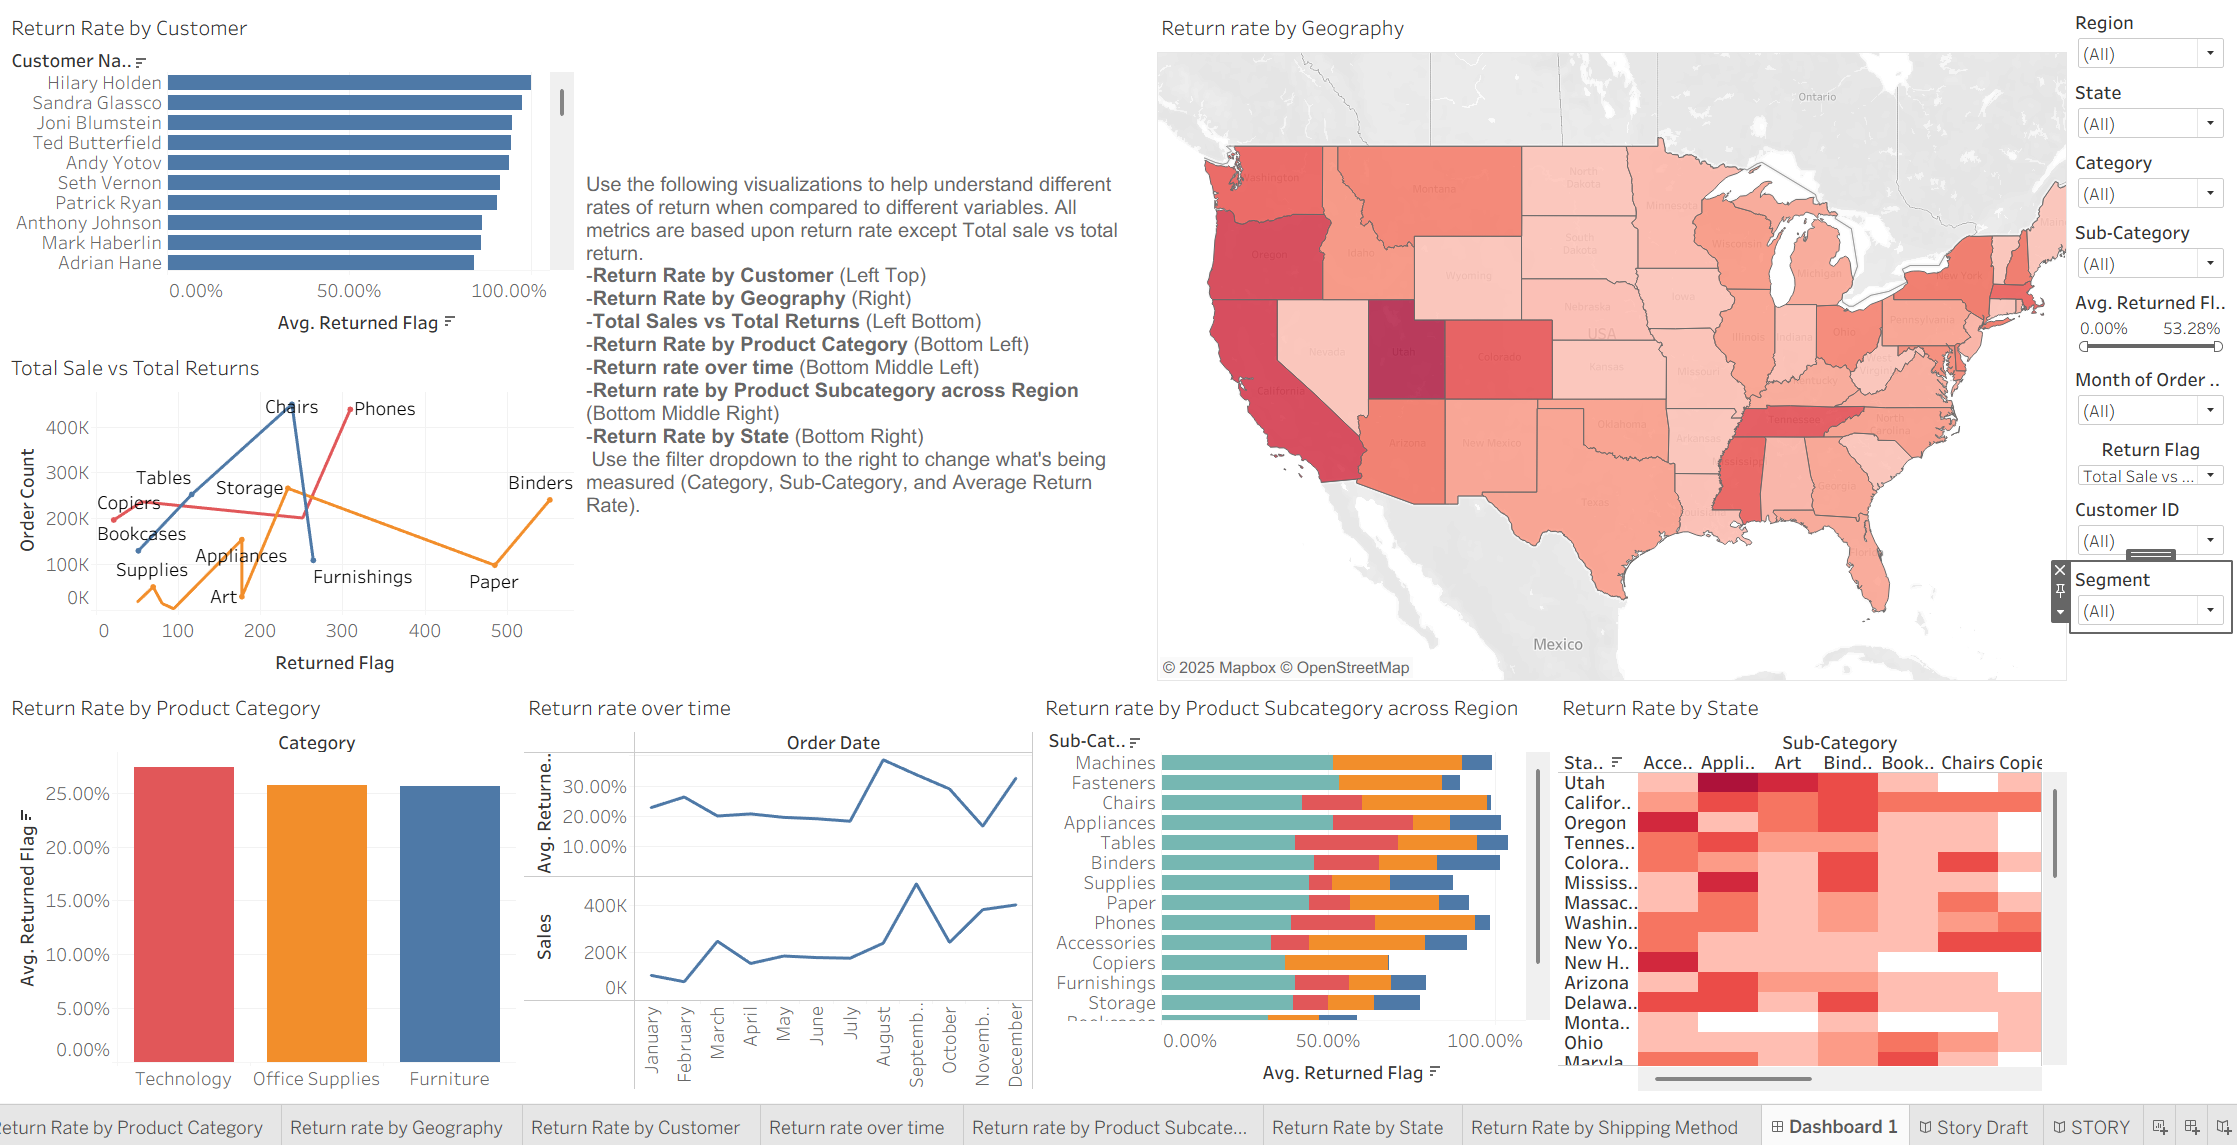

The dashboard page shown, as its layout file describes it:
{"tool":"tableau","page":{"name":"Dashboard 1","canvas":[1000,1000],"units":"permille","ordinal":0},"visuals":[{"type":"worksheet","title":"Return Rate by Customer","mark":"Bar","rows":["Customer Name"],"cols":["Calculation_611082238908014592"],"box":[3.6,7.1,256.1,307.6]},{"type":"text","box":[259.7,7.1,256.2,615.2]},{"type":"worksheet","title":"Return rate by Geography","mark":"Automatic","box":[515.9,7.1,409.3,615.2]},{"type":"filter","title":"Return rate by Product Subcategory across Region","param":"[federated.03c0x3n0xetzyi13l15yj0yb7muh].[none:Region:nk]","box":[925.1,7.1,71.3,53.1]},{"type":"filter","title":"Return rate by Geography","param":"[federated.03c0x3n0xetzyi13l15yj0yb7muh].[none:State:nk]","box":[925.1,60.1,71.3,53.1]},{"type":"filter","title":"Return Rate by Product Category","param":"[federated.03c0x3n0xetzyi13l15yj0yb7muh].[none:Category:nk]","box":[925.1,113.2,71.3,53.1]},{"type":"filter","title":"Total Sale vs Total Returns","param":"[federated.03c0x3n0xetzyi13l15yj0yb7muh].[none:Sub-Category:nk]","box":[925.1,166.2,71.3,53.1]},{"type":"filter","title":"Return rate by Product Subcategory across Region","param":"[federated.03c0x3n0xetzyi13l15yj0yb7muh].[avg:Calculation_611082238908014592:qk]","box":[925.1,219.3,71.3,68.1]},{"type":"filter","title":"Return rate over time","param":"[federated.03c0x3n0xetzyi13l15yj0yb7muh].[mn:Order Date:ok]","box":[925.1,287.4,71.3,53.1]},{"type":"worksheet","title":"Total Sale vs Total Returns","mark":"Line","rows":["Sales"],"cols":["Calculation_611082238908014592"],"box":[3.6,314.7,256.1,307.6]},{"type":"parameter","param":"[Parameters].[Parameter 1]","box":[925.1,340.4,71.3,53.1]},{"type":"filter","title":"Return Rate by State","param":"[federated.03c0x3n0xetzyi13l15yj0yb7muh].[none:Customer ID:nk]","box":[925.1,393.4,71.3,53.1]},{"type":"filter","title":"Return Rate by Customer","param":"[federated.03c0x3n0xetzyi13l15yj0yb7muh].[none:Segment:nk]","box":[925.1,446.5,71.3,53.1]},{"type":"worksheet","title":"Return Rate by Product Category","mark":"Bar","rows":["Calculation_611082238908014592"],"cols":["Category"],"box":[3.6,622.3,230.3,370.6]},{"type":"worksheet","title":"Return rate over time","mark":"Automatic","rows":["Calculation_611082238908014592","Sales"],"cols":["Order Date"],"box":[233.9,622.3,230.4,370.6]},{"type":"worksheet","title":"Return rate by Product Subcategory across Region","mark":"Automatic","rows":["Sub-Category"],"cols":["Calculation_611082238908014592"],"box":[464.3,622.3,230.3,370.6]},{"type":"worksheet","title":"Return Rate by State","mark":"Automatic","rows":["State"],"cols":["Sub-Category"],"box":[694.6,622.3,230.5,370.6]}]}

Visuals, with their boxes on the dashboard's canvas, which has no fixed pixel size, in thousandths of its width and height (x1, y1, x2, y2). These are canvas units, not pixel positions in the 2237x1145 screenshot, which may show the page scaled, cropped or inside an application window:
"Return Rate by Customer" worksheet (Bar marks): select_region(4, 7, 260, 315)
text: select_region(260, 7, 516, 622)
"Return rate by Geography" worksheet: select_region(516, 7, 925, 622)
"Return rate by Product Subcategory across Region" filter: select_region(925, 7, 996, 60)
"Return rate by Geography" filter: select_region(925, 60, 996, 113)
"Return Rate by Product Category" filter: select_region(925, 113, 996, 166)
"Total Sale vs Total Returns" filter: select_region(925, 166, 996, 219)
"Return rate by Product Subcategory across Region" filter: select_region(925, 219, 996, 287)
"Return rate over time" filter: select_region(925, 287, 996, 340)
"Total Sale vs Total Returns" worksheet (Line marks): select_region(4, 315, 260, 622)
parameter: select_region(925, 340, 996, 394)
"Return Rate by State" filter: select_region(925, 393, 996, 446)
"Return Rate by Customer" filter: select_region(925, 446, 996, 500)
"Return Rate by Product Category" worksheet (Bar marks): select_region(4, 622, 234, 993)
"Return rate over time" worksheet: select_region(234, 622, 464, 993)
"Return rate by Product Subcategory across Region" worksheet: select_region(464, 622, 695, 993)
"Return Rate by State" worksheet: select_region(695, 622, 925, 993)
